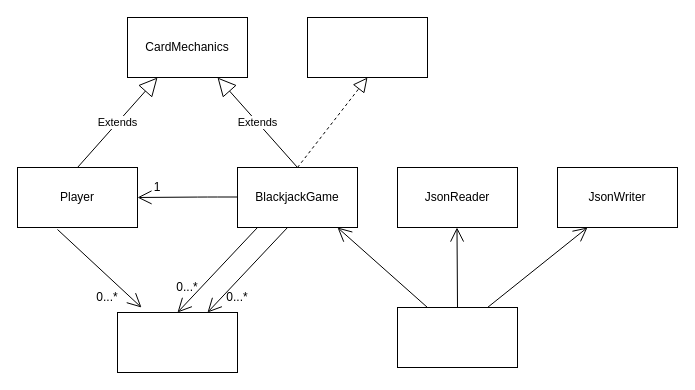
Image size: 695x390. Some labels were removed from this diagram. Each missing label, with the centre of its shape:
Blackjack: the point at 457,337
Card: the point at 177,342
Writable: the point at 367,47
